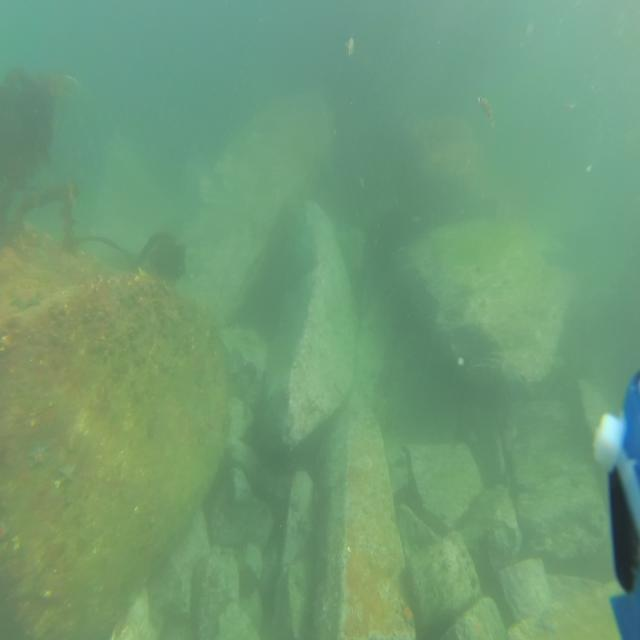starfish: (10, 286, 45, 315), (58, 455, 78, 491), (534, 611, 560, 638), (27, 439, 48, 471), (397, 598, 417, 631), (466, 609, 486, 640), (292, 569, 307, 593), (206, 567, 221, 591), (290, 497, 301, 516)
